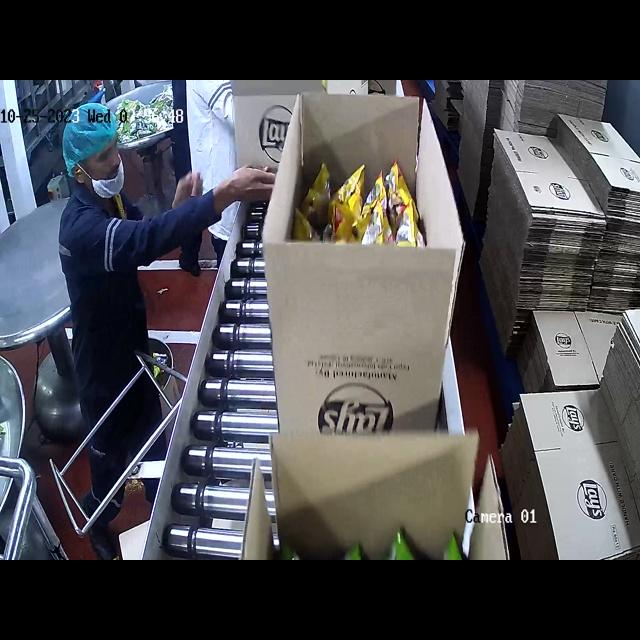salted: (310, 151, 437, 236)
